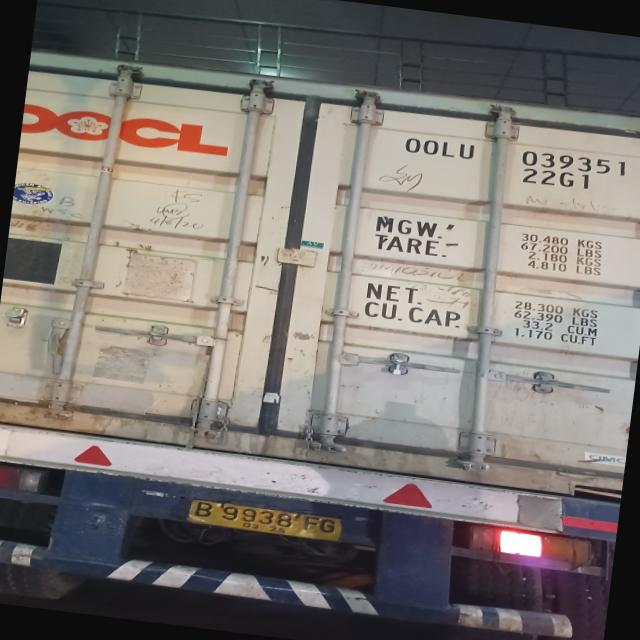seal: (392, 357, 406, 376)
